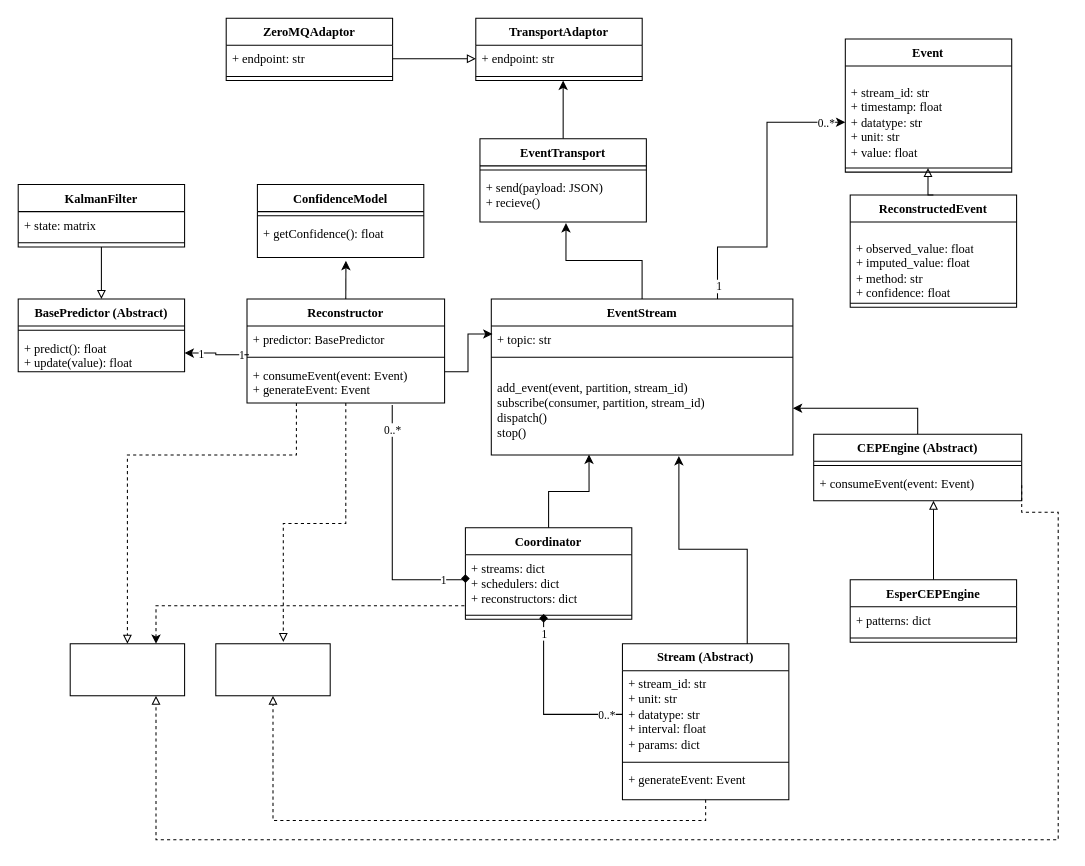
The diagram is 1085 pixels wide and 866 high, and some of its shapes have lost their labels. Here are the shapes that lost their labels. From the top down, the centre of each, then its label:
At [127,669]: "«interface» EventConsumer".
At [272,669]: "«interface» EventGenerator".
